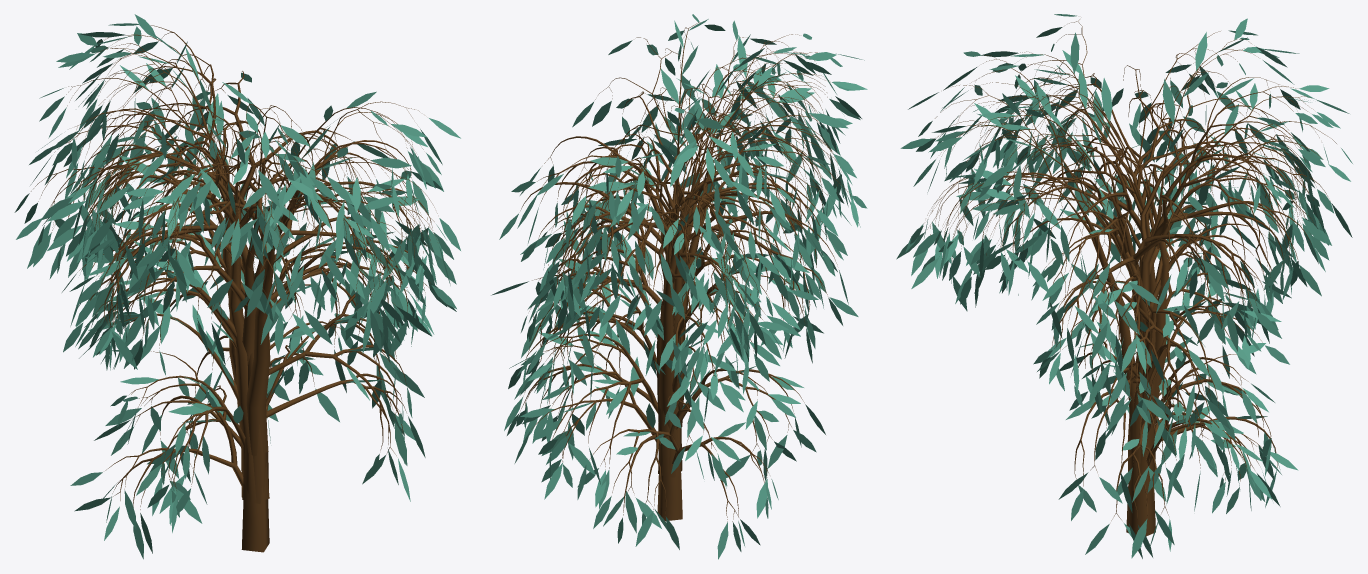
File: BlueHangingTree.fbx
The picture shows the model from 3 angles, left to right: view 1: azimuth 30°, elevation 25°; view 2: azimuth 150°, elevation 25°; view 3: azimuth 270°, elevation 25°; orthographic projection. The views are drawn at different scales.
Parts seen in each view (by area): view 1: leaves, tree; view 2: leaves, tree; view 3: leaves, tree.
Boxes of the visible parts, left/top/right/bottom form: leaves: left=14, top=14, right=460, bottom=559; tree: left=31, top=25, right=437, bottom=552; leaves: left=491, top=14, right=867, bottom=559; tree: left=520, top=22, right=850, bottom=521; leaves: left=896, top=14, right=1352, bottom=558; tree: left=927, top=19, right=1336, bottom=536.
Bounding box in the file's own units: 1542 × 1928 × 1705.
